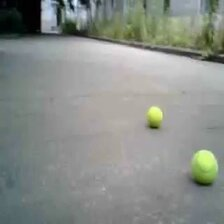tennis: (191, 149, 218, 184), (148, 107, 164, 127)
